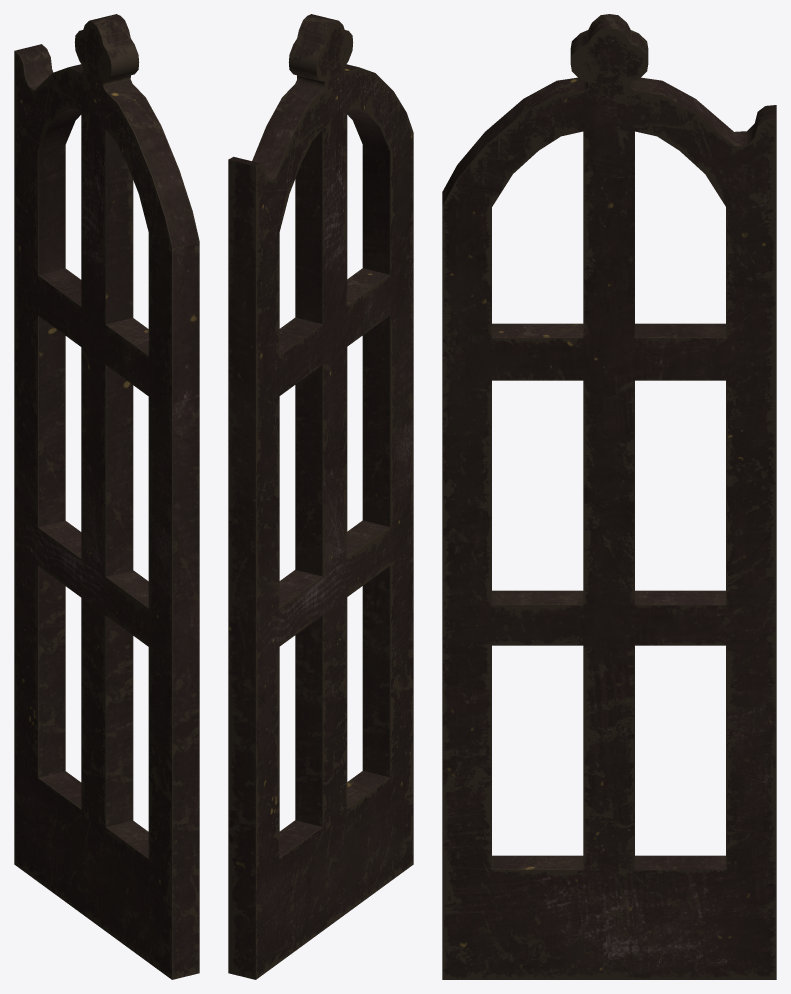
The model's file is doorleft.fbx.
3 views of the same model, side by side, from view 1: azimuth 30°, elevation 25°; view 2: azimuth 150°, elevation 25°; view 3: azimuth 270°, elevation 25° (orthographic). The views are drawn at different scales.
Visible parts, largest first — view 1: door.001; view 2: door.001; view 3: door.001.
Boxes of the visible parts, bbox=[...] form: door.001: bbox=[14, 14, 199, 979]; door.001: bbox=[228, 14, 413, 979]; door.001: bbox=[442, 14, 776, 979].
Size of the model in its own units: 3.99 by 124 by 39.47.
